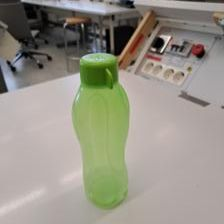bottle: (71, 49, 135, 209)
